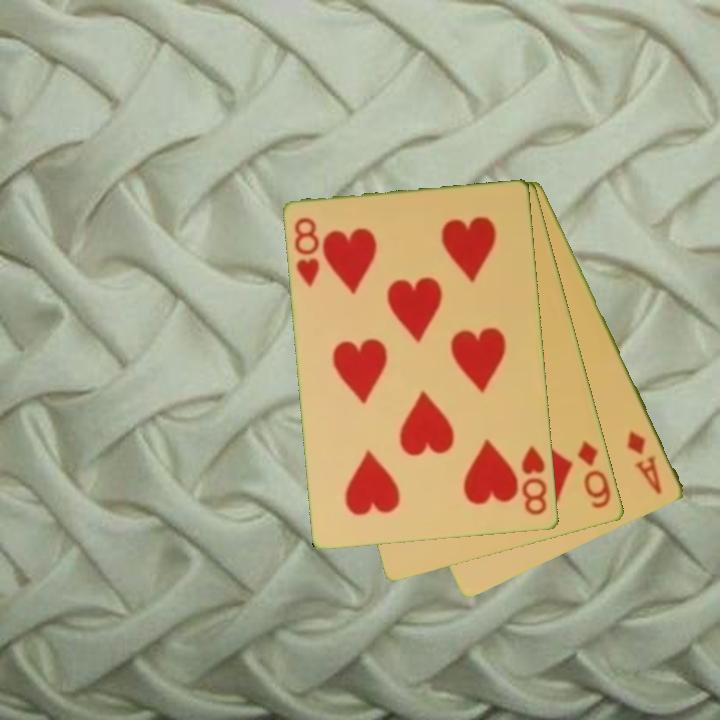6d: (574, 437, 614, 512)
8h: (518, 442, 550, 518), (291, 214, 323, 290)
Ad: (624, 426, 666, 498)
